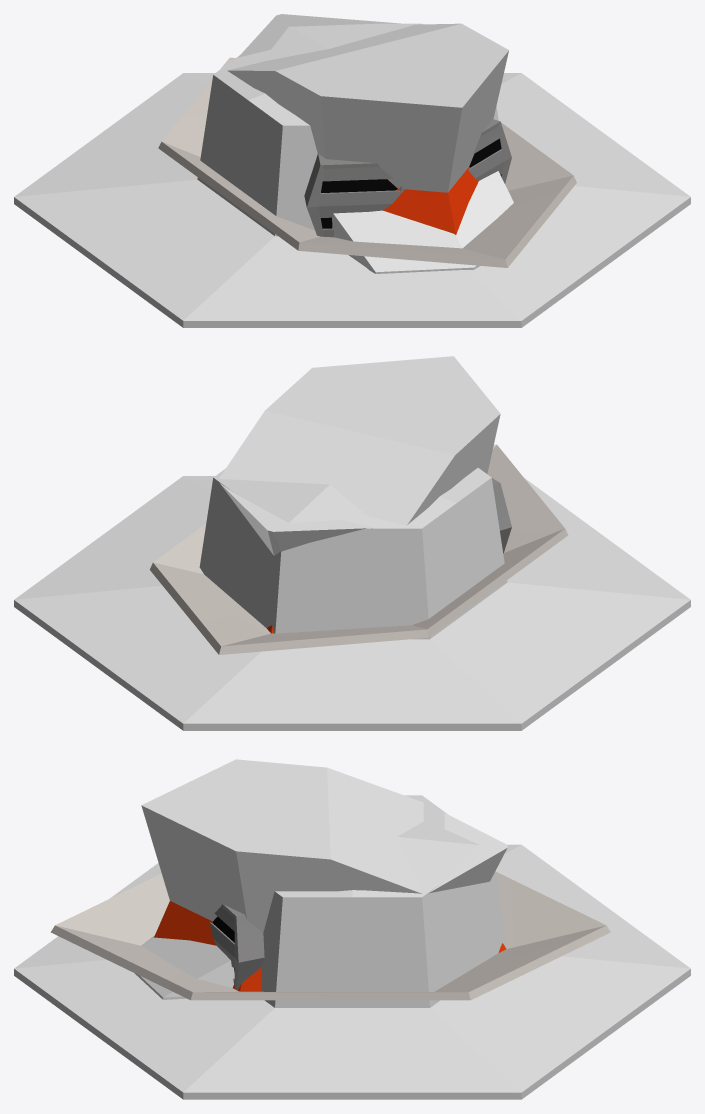
The model's file is hats2.fbx.
3 renders of one model, top to bottom at view 1: azimuth 30°, elevation 25°; view 2: azimuth 150°, elevation 25°; view 3: azimuth 270°, elevation 25°, orthographic.
Parts seen in each view (by area): view 1: GyroHat, AmericaHay, GopnikHat, Cube; view 2: GyroHat, AmericaHay, Cube; view 3: GyroHat, AmericaHay, GopnikHat, Cube.
Part boxes in pixels (x1,y1,x2,y2): GyroHat: [14, 23, 690, 327]; AmericaHay: [158, 14, 576, 267]; GopnikHat: [332, 171, 513, 273]; Cube: [304, 119, 511, 237]; GyroHat: [14, 468, 690, 730]; AmericaHay: [149, 356, 568, 654]; Cube: [492, 478, 511, 553]; GyroHat: [14, 795, 690, 1099]; AmericaHay: [50, 759, 610, 1000]; GopnikHat: [134, 936, 234, 999]; Cube: [209, 904, 264, 990].
Size of the model in its own units: 175 by 59.39 by 203.
Materials: 2 (1 with a texture image).
